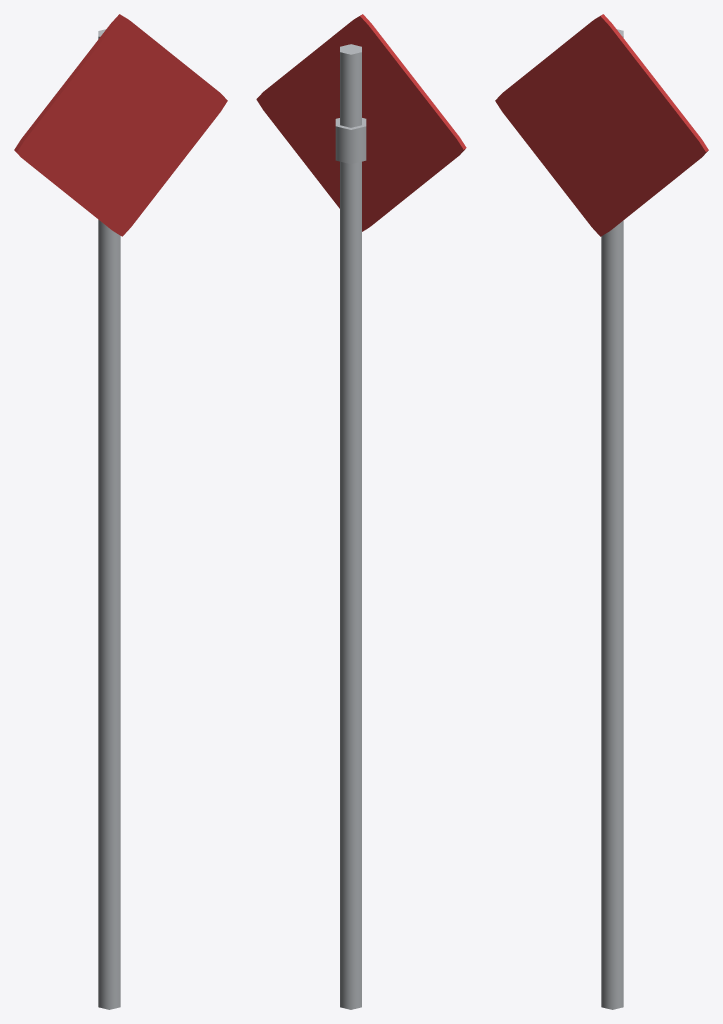
The model's file is SM_roadsign_004.fbx.
3 views of the same model, side by side, from view 1: azimuth 30°, elevation 25°; view 2: azimuth 150°, elevation 25°; view 3: azimuth 330°, elevation 25° (orthographic).
Parts seen in each view (by area): view 1: Cylinder070; view 2: Cylinder070; view 3: Cylinder070.
Boxes of the visible parts, left/top/right/bottom form: Cylinder070: left=14, top=14, right=227, bottom=1009; Cylinder070: left=256, top=14, right=466, bottom=1009; Cylinder070: left=495, top=14, right=708, bottom=1009.
Size of the model in its own units: 27.97 by 126 by 4.67.
